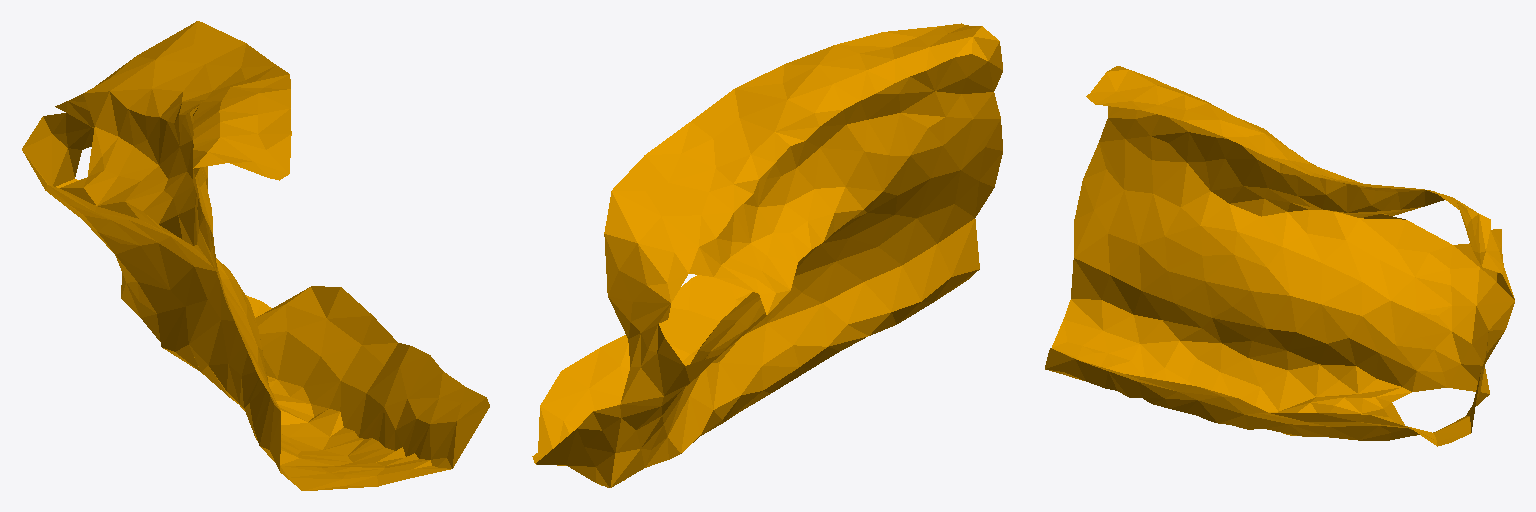
The robot description file, URDF, robot "init":
<?xml version='1.0' encoding='utf-8'?>
<robot name="init">
<link name="link_0"><inertial><mass value="1.0" /><origin rpy="0 0 0" xyz="0.000000 0.000000 0.000000" /><inertia ixx="1.0" ixy="0.0" ixz="0.0" iyy="1.0" iyz="0.0" izz="1.0" /></inertial><visual><origin rpy="0 0 0" xyz="0.000000 0.000000 0.000000" /><geometry><mesh filename="./clothHuman/cloth/403.obj" /></geometry></visual><collision><origin rpy="0 0 0" xyz="0.000000 0.000000 0.000000" /><geometry><mesh filename="./clothHuman/cloth/403.obj" /></geometry></collision></link></robot>

--- What the picture shows (computed from the rendered views, not written in the file) ---
Views: 3 orthographic renders of the robot side by side, from view 1: azimuth 30°, elevation 25°; view 2: azimuth 150°, elevation 25°; view 3: azimuth 270°, elevation 25°.
Robot: init — 1 links, 0 joints (none); root link link_0; default pose: every joint at zero.
Visible links, largest first — view 1: link_0; view 2: link_0; view 3: link_0.
Link boxes in pixels (x1,y1,x2,y2): link_0: [22, 21, 489, 490]; link_0: [532, 23, 1002, 487]; link_0: [1045, 66, 1514, 446].
Bounding box of the posed robot: 2.17 × 3.79 × 2.64 m (x, y, z).
Meshes: 1 distinct files referenced, 1 mesh visuals loaded (1 OBJ).